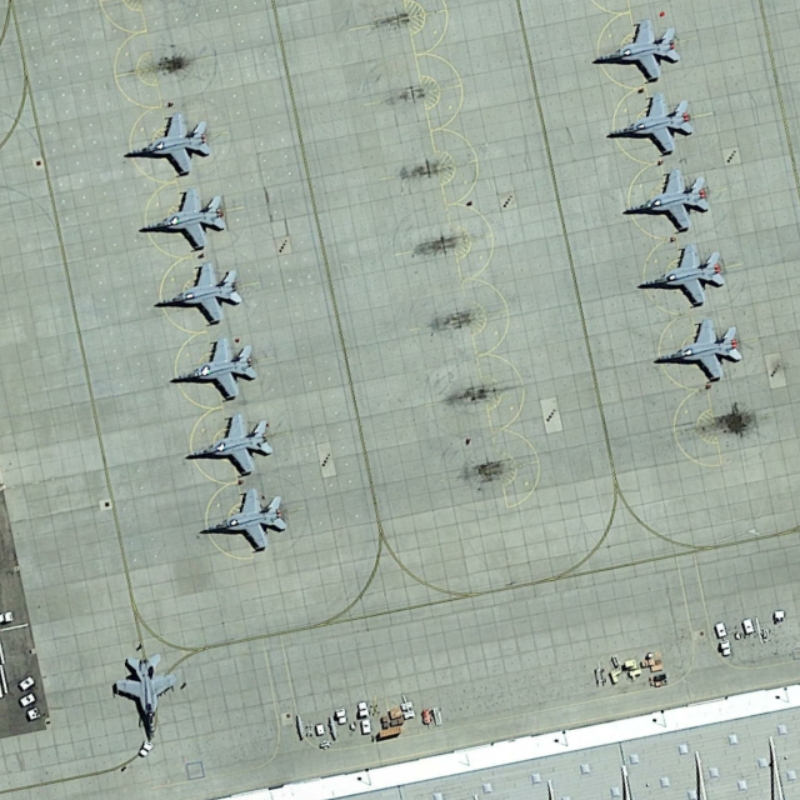A16: (160, 333, 260, 404), (146, 258, 247, 328), (195, 483, 292, 555), (130, 184, 229, 254), (648, 316, 749, 384), (179, 410, 278, 479), (112, 649, 181, 748), (599, 90, 698, 158), (588, 16, 684, 86), (633, 241, 729, 311), (120, 109, 213, 179), (618, 168, 715, 234)
